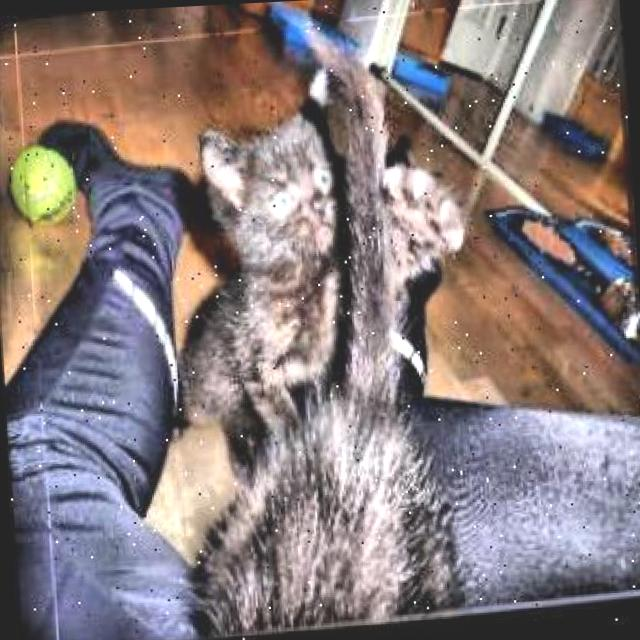tennis-ball: (6, 140, 79, 233)
